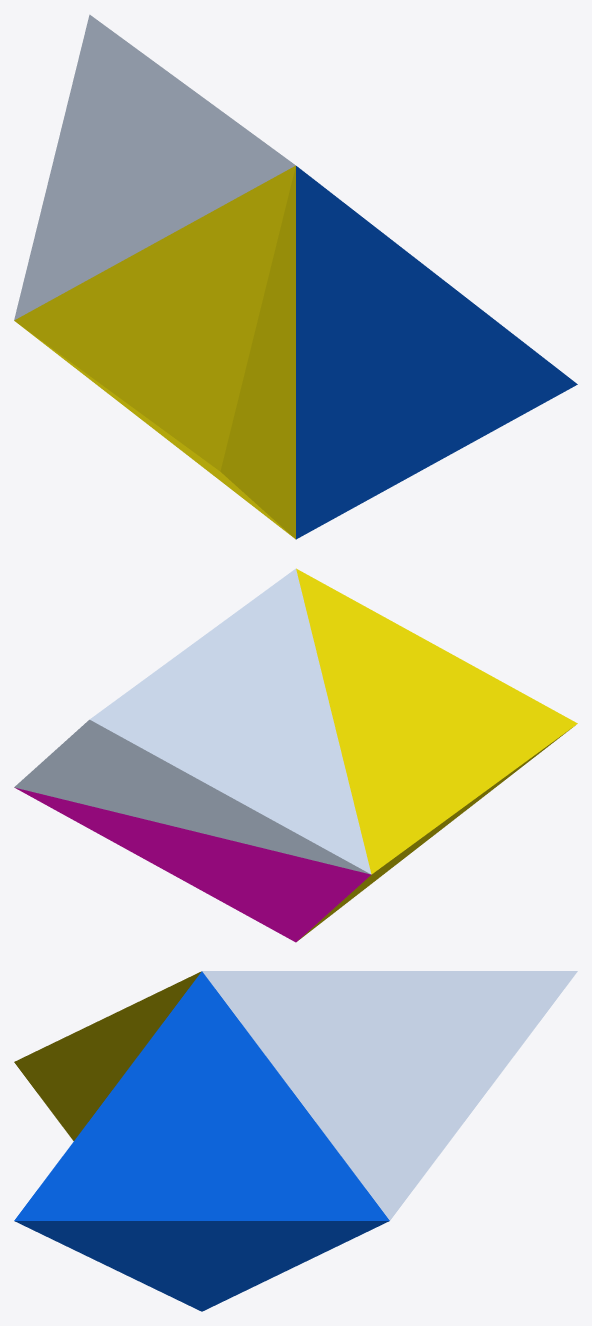
The model's file is TetragonalDisphenoidal_4_3.glb.
3 renders of one model, top to bottom at view 1: azimuth 30°, elevation 25°; view 2: azimuth 150°, elevation 25°; view 3: azimuth 270°, elevation 25°, orthographic. The views are drawn at different scales.
Bounding box in the file's own units: 4 × 4 × 6.
